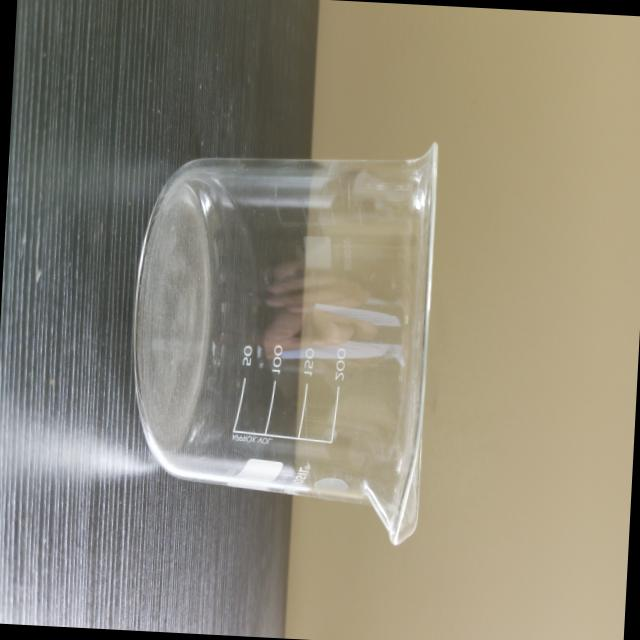beaker: (117, 122, 442, 554)
